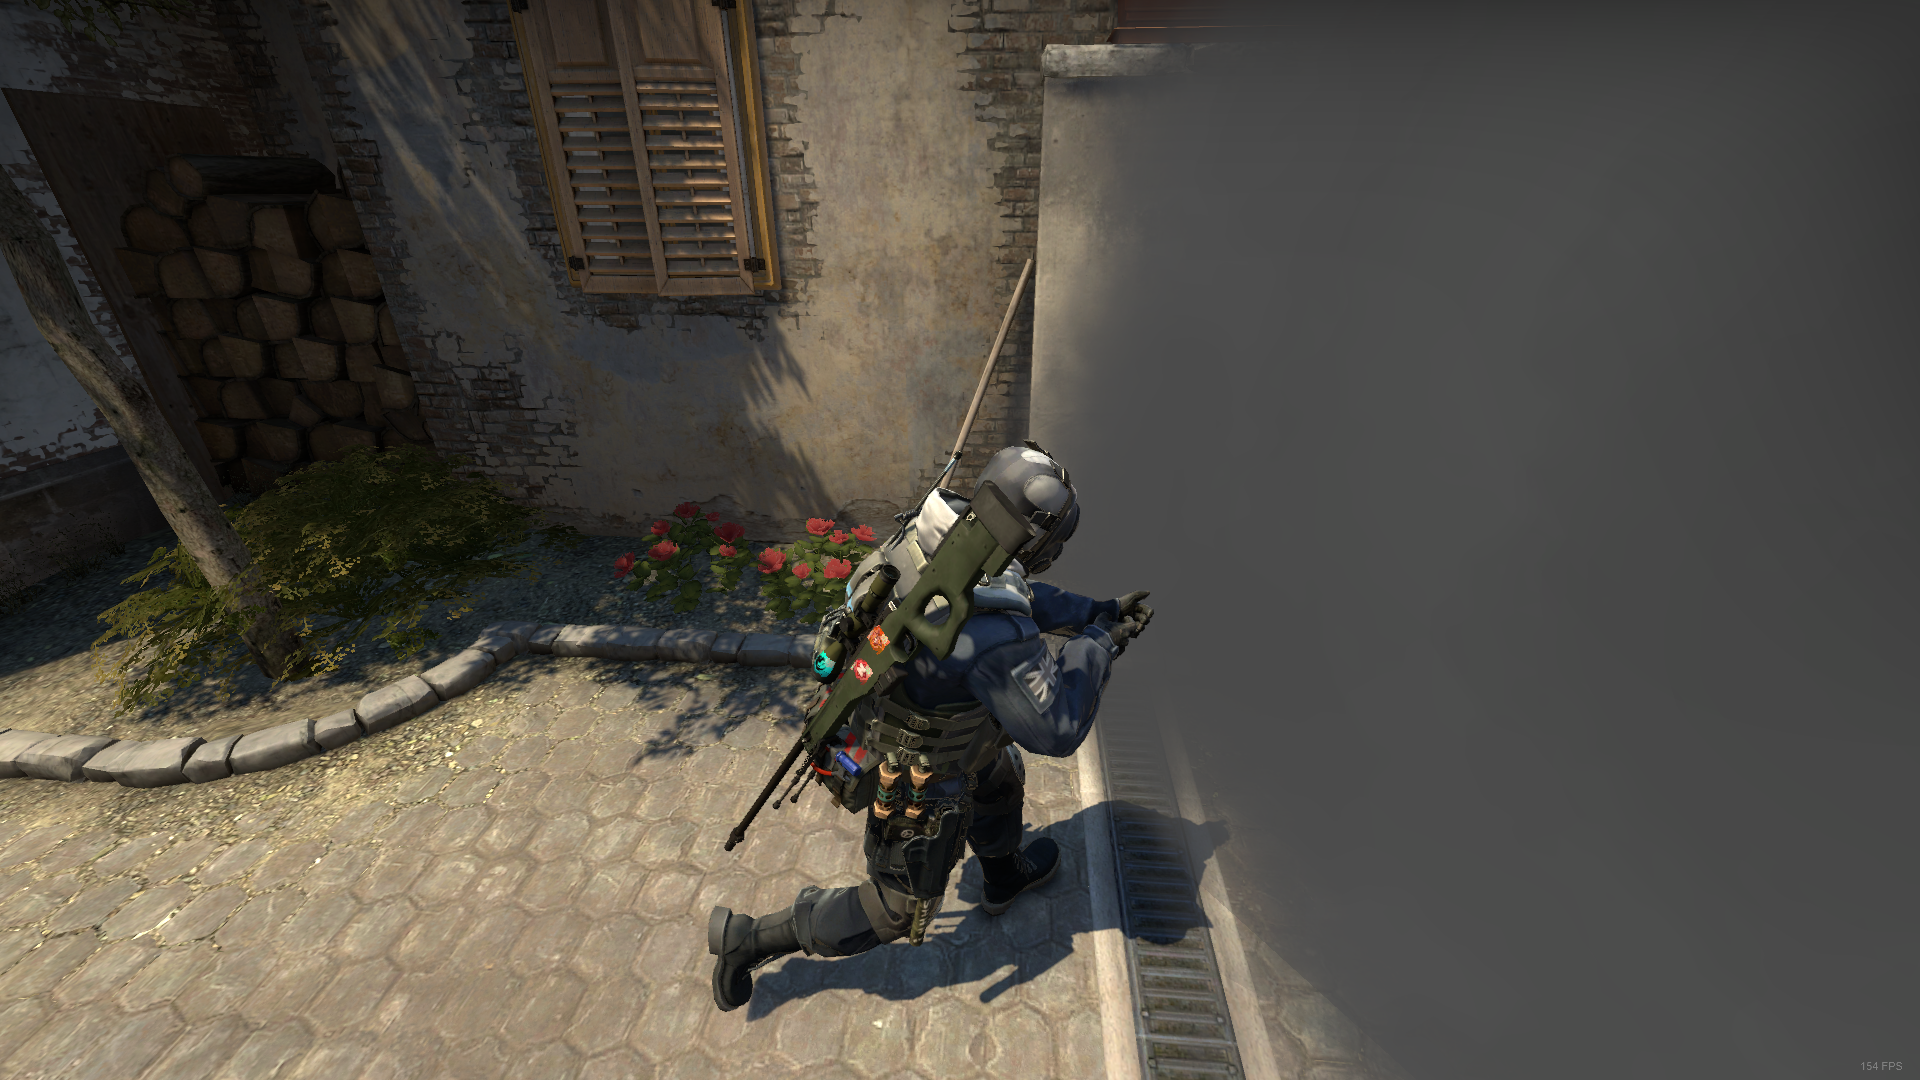ct: (709, 440, 1156, 1038)
